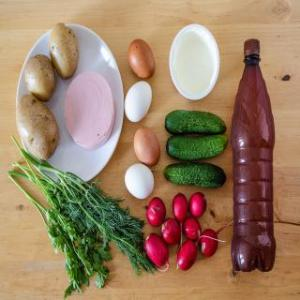cucumber: (163, 160, 225, 190), (164, 110, 226, 136), (163, 134, 228, 157)
egg: (123, 82, 153, 123), (124, 163, 153, 200), (129, 39, 155, 79), (134, 128, 160, 166)
potato: (18, 96, 58, 158), (24, 56, 56, 100), (52, 22, 76, 76)
